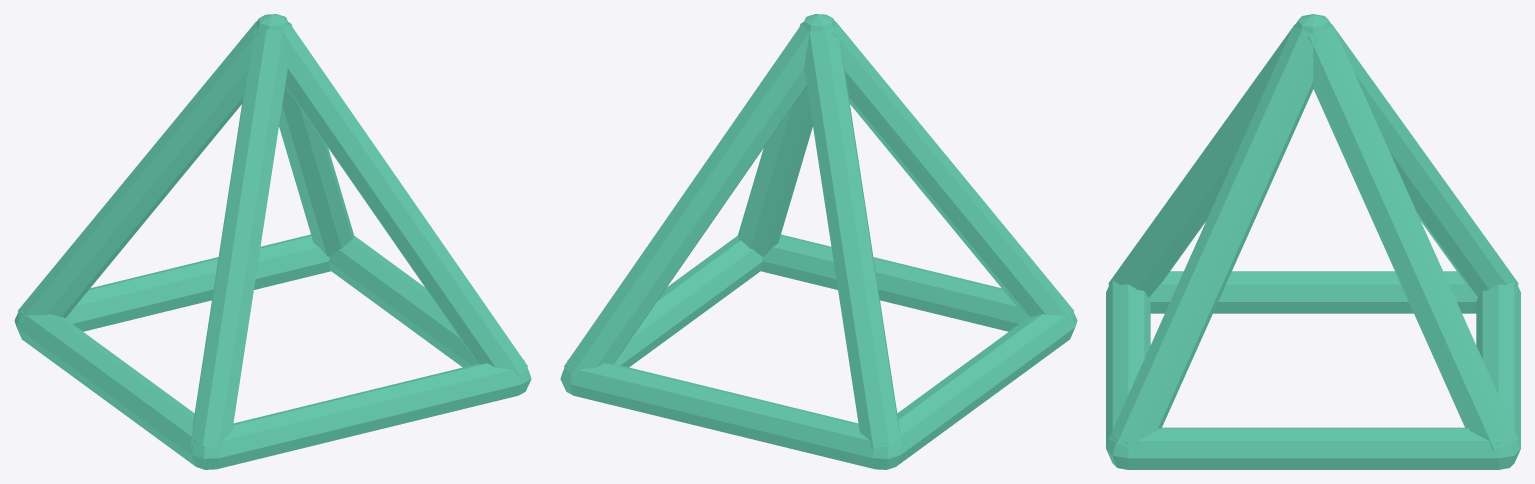
3 renders of one model, left to right at view 1: azimuth 30°, elevation 25°; view 2: azimuth 150°, elevation 25°; view 3: azimuth 270°, elevation 25°, orthographic. The views are drawn at different scales.
Parts seen in each view (by area): view 1: Pyramid; view 2: Pyramid; view 3: Pyramid.
Part boxes in pixels (<box>): Pyramid: <box>14,14,531,469</box>; Pyramid: <box>560,14,1077,469</box>; Pyramid: <box>1106,14,1520,469</box>.
Size of the model in its own units: 0.1854 by 0.1854 by 0.1854.
